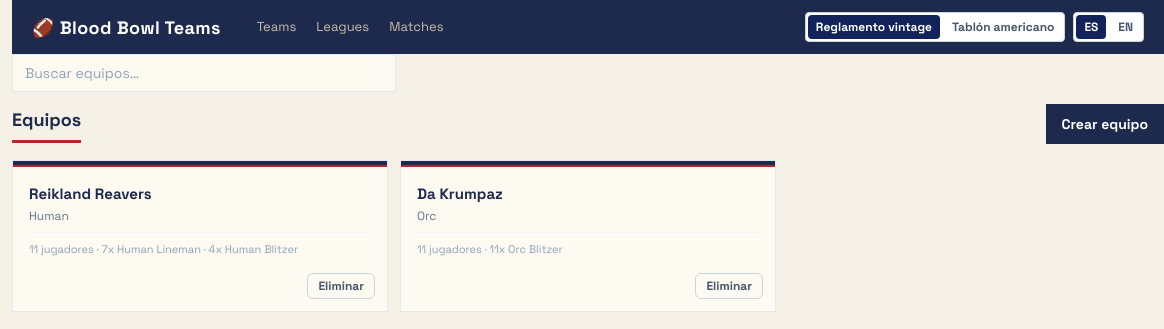
TeamList › filters by race name from the topbar
Check: the heading "Reikland Reavers" is shown, box [29,184,152,203]
Type "orc" into the search field labelled "Buscar equipos…" at {"x": 204, "y": 73}, box [12,54,396,92]
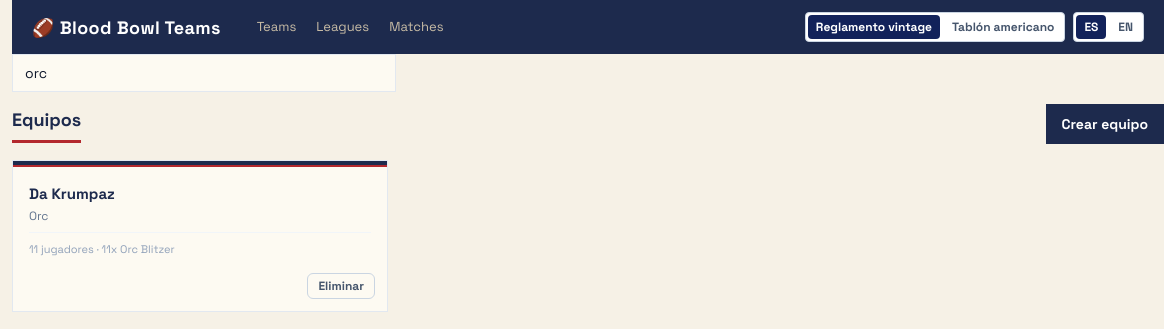
Check: the heading "Da Krumpaz" is shown, box [29,184,115,203]
Check: the link "Reikland Reavers" is gone
